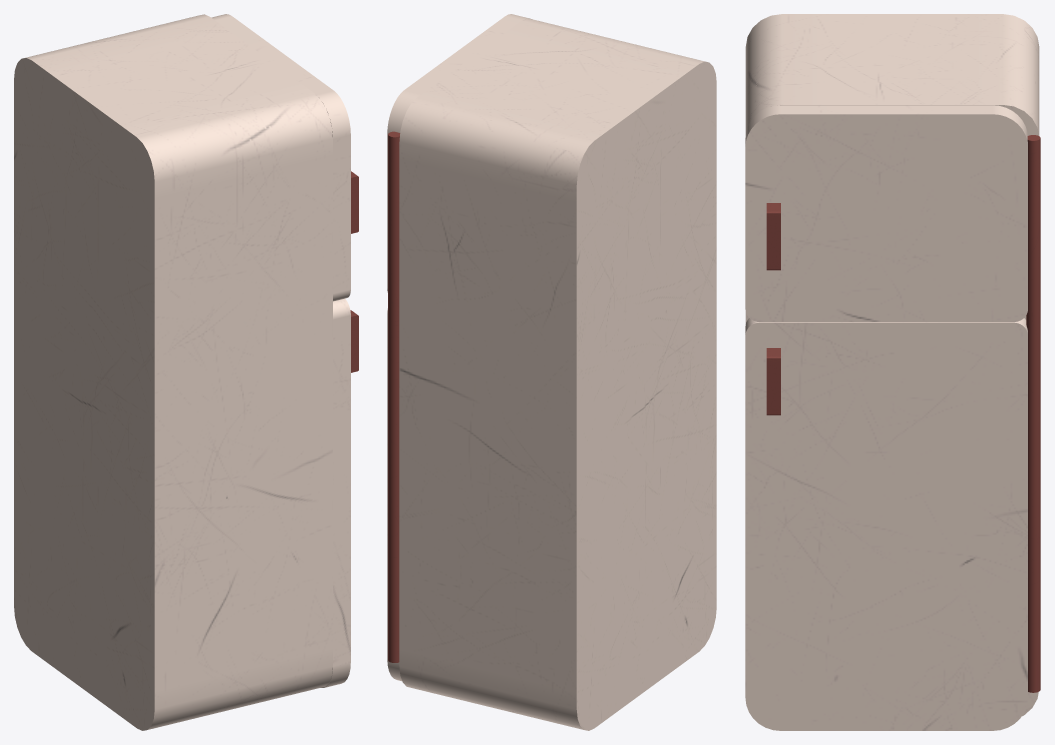
Rendered from fridge.fbx.
3 views of the same model, side by side, from view 1: azimuth 30°, elevation 25°; view 2: azimuth 150°, elevation 25°; view 3: azimuth 270°, elevation 25° (orthographic). The views are drawn at different scales.
Visible parts, largest first — view 1: fridge:FridgeOutsidepCube1, fridge:FridgeOutsidepCube3, fridge:FridgeOutsidepCube2; view 2: fridge:FridgeOutsidepCube1, fridge:FridgeOutsidepCylinder1, fridge:FridgeOutsidepCube2, fridge:FridgeOutsidepCube3; view 3: fridge:FridgeOutsidepCube3, fridge:FridgeOutsidepCube2, fridge:FridgeOutsidepCube1, fridge:FridgeOutsidepCylinder1, fridge:FridgeOutsidepCube4, fridge:FridgeOutsidepCube5.
Boxes of the visible parts, left/top/right/bottom form: fridge:FridgeOutsidepCube1: left=14, top=14, right=332, bottom=730; fridge:FridgeOutsidepCube3: left=321, top=298, right=350, bottom=687; fridge:FridgeOutsidepCube2: left=211, top=14, right=350, bottom=301; fridge:FridgeOutsidepCube1: left=399, top=18, right=716, bottom=730; fridge:FridgeOutsidepCylinder1: left=388, top=131, right=400, bottom=662; fridge:FridgeOutsidepCube2: left=387, top=14, right=531, bottom=292; fridge:FridgeOutsidepCube3: left=387, top=308, right=401, bottom=681; fridge:FridgeOutsidepCube3: left=745, top=318, right=1027, bottom=730; fridge:FridgeOutsidepCube2: left=745, top=105, right=1027, bottom=321; fridge:FridgeOutsidepCube1: left=745, top=14, right=1039, bottom=716; fridge:FridgeOutsidepCylinder1: left=1026, top=135, right=1040, bottom=692; fridge:FridgeOutsidepCube4: left=766, top=203, right=780, bottom=270; fridge:FridgeOutsidepCube5: left=766, top=348, right=780, bottom=415.
Size of the model in its own units: 3.61 by 9.5 by 4.12.
Materials: 3 (3 with a texture image).
